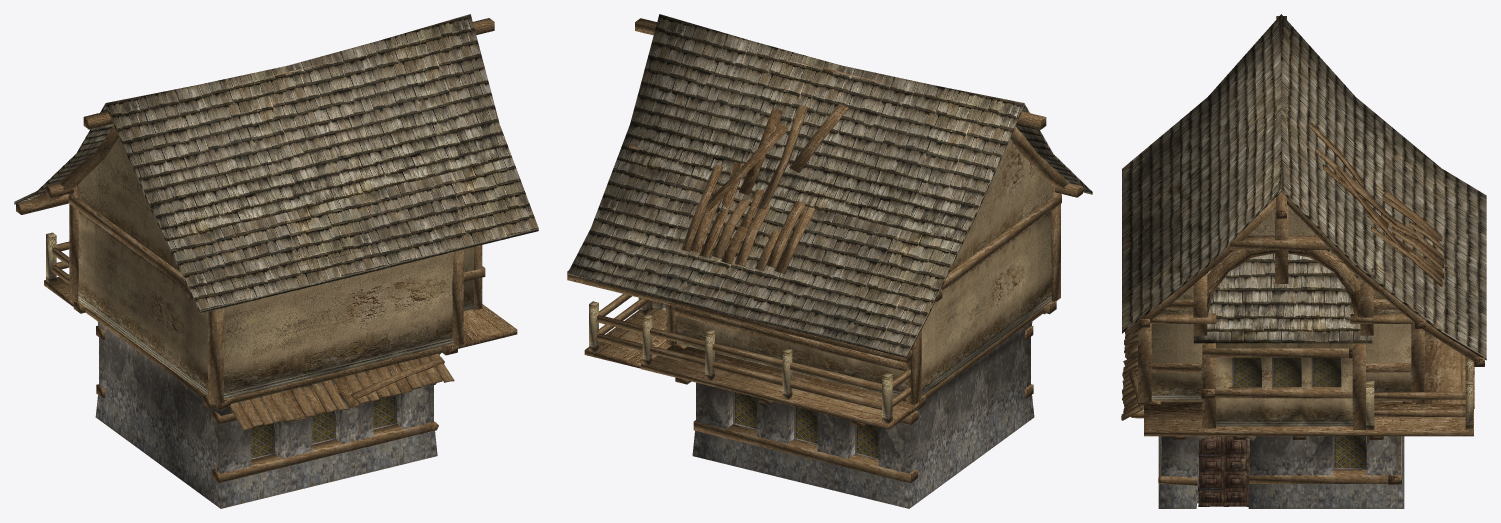
The model's file is fantasy_house4.dae.
3 renders of one model, left to right at view 1: azimuth 30°, elevation 25°; view 2: azimuth 150°, elevation 25°; view 3: azimuth 270°, elevation 25°, orthographic.
Parts seen in each view (by area): view 1: meshU3D; view 2: meshU3D; view 3: meshU3D.
Boxes of the visible parts, x1,y1,x2,y2 form: meshU3D: [14, 14, 538, 508]; meshU3D: [567, 14, 1092, 508]; meshU3D: [1121, 14, 1486, 508].
Size of the model in its own units: 11.23 by 9.86 by 8.93.
